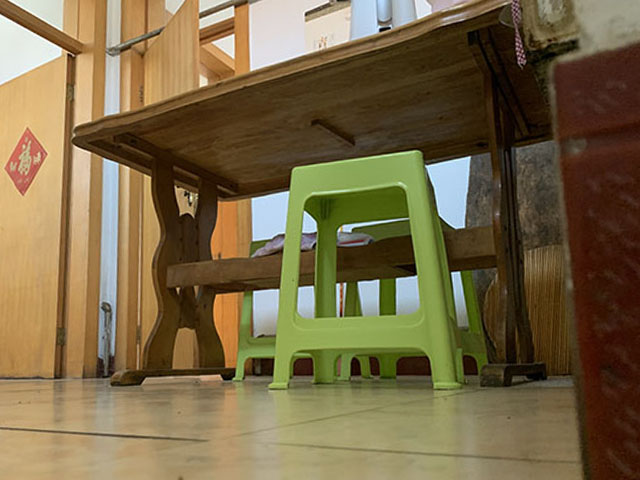stool: (265, 148, 471, 390)
table: (70, 1, 557, 389)
